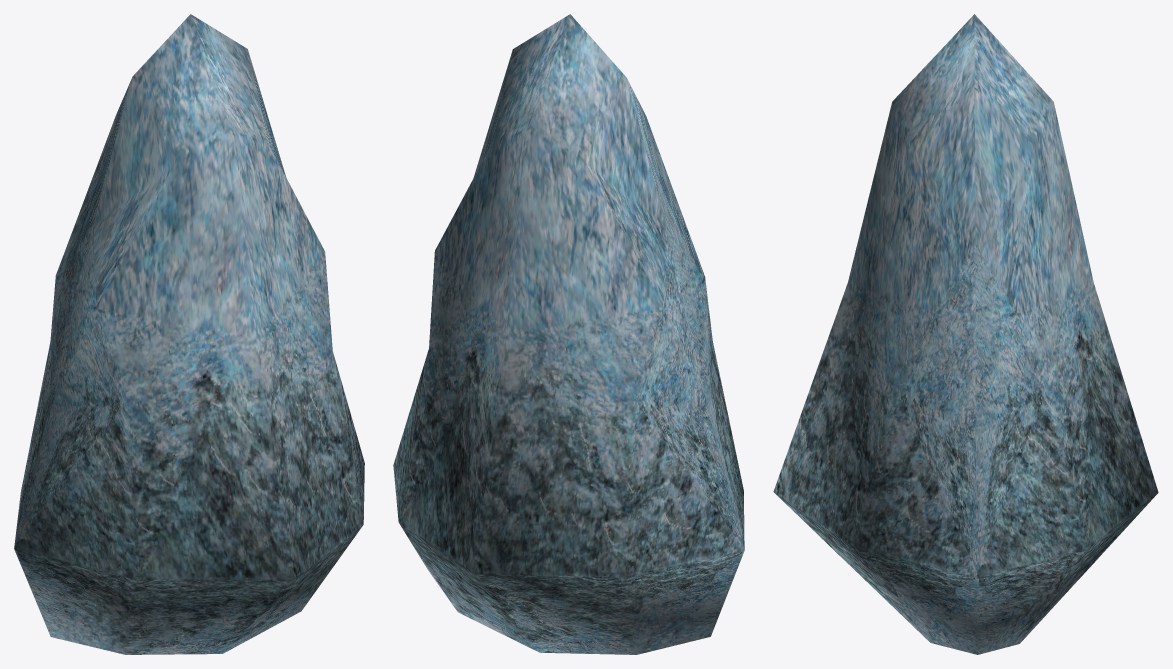
Rendered from thm_all_cave_stalagmite_ice_b1_l1.fbx.
The picture shows the model from 3 angles, left to right: view 1: azimuth 30°, elevation 25°; view 2: azimuth 150°, elevation 25°; view 3: azimuth 270°, elevation 25°; orthographic projection. The views are drawn at different scales.
Parts seen in each view (by area): view 1: mesh_node; view 2: mesh_node; view 3: mesh_node.
Boxes of the visible parts, x1,y1,x2,y2 form: mesh_node: (14, 14, 364, 654); mesh_node: (393, 14, 744, 654); mesh_node: (773, 14, 1158, 654).
Size of the model in its own units: 2.28 by 3.9 by 2.23.
